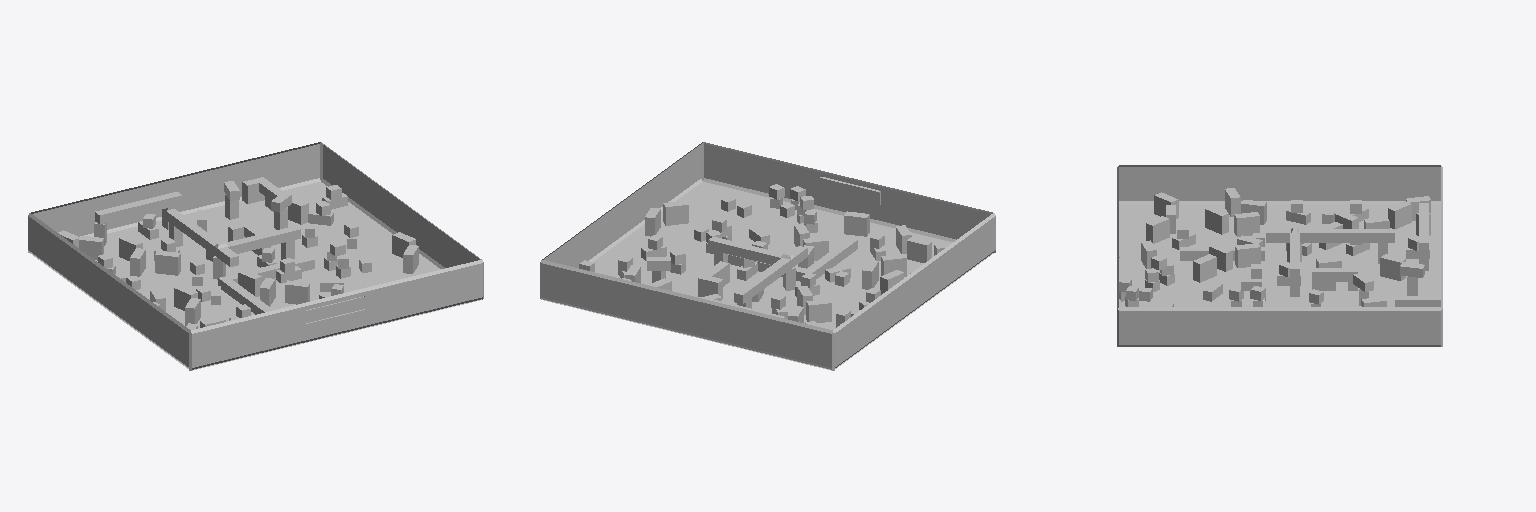
File: arena123.obj
3 views of the same model, side by side, from view 1: azimuth 30°, elevation 25°; view 2: azimuth 150°, elevation 25°; view 3: azimuth 270°, elevation 25° (orthographic).
Parts seen in each view (by area): view 1: gg_amelos_world_geometry_gg_amelos_world_geometry_mesh.001; view 2: gg_amelos_world_geometry_gg_amelos_world_geometry_mesh.001; view 3: gg_amelos_world_geometry_gg_amelos_world_geometry_mesh.001.
Boxes of the visible parts, x1,y1,x2,y2 form: gg_amelos_world_geometry_gg_amelos_world_geometry_mesh.001: [28, 142, 483, 370]; gg_amelos_world_geometry_gg_amelos_world_geometry_mesh.001: [540, 142, 995, 370]; gg_amelos_world_geometry_gg_amelos_world_geometry_mesh.001: [1117, 165, 1442, 346].
Size of the model in its own units: 165 by 21.32 by 158.